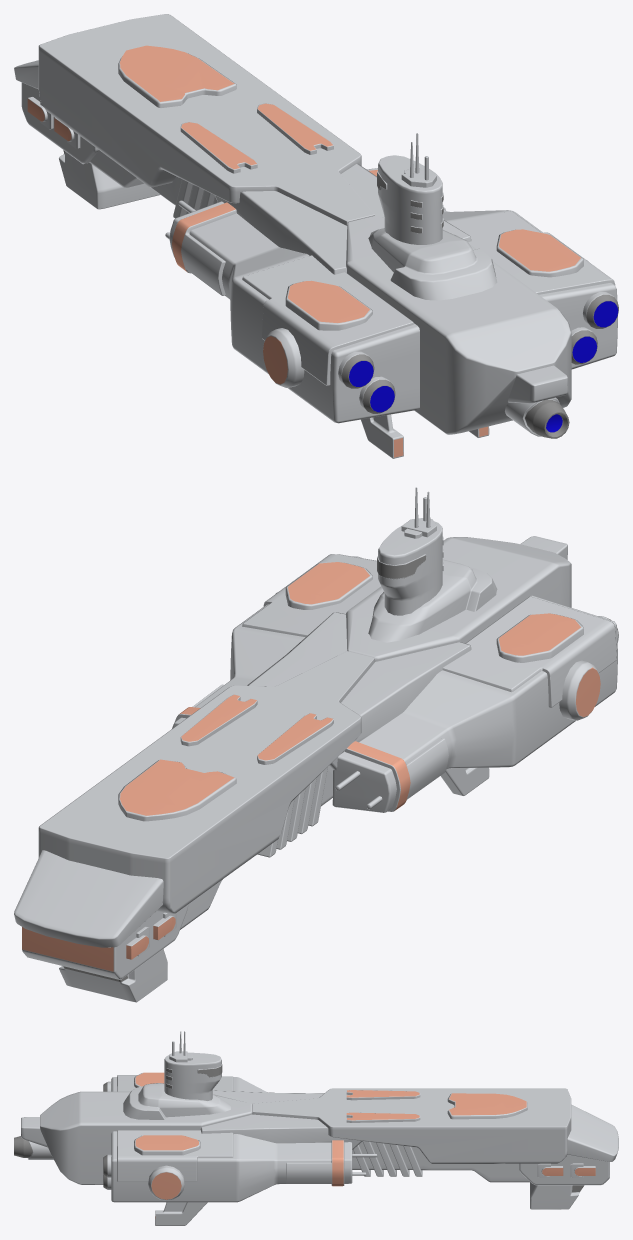
The model's file is lite-carrier.glb.
3 views of the same model, one above another, from view 1: azimuth 30°, elevation 25°; view 2: azimuth 150°, elevation 25°; view 3: azimuth 270°, elevation 25° (orthographic). The views are drawn at different scales.
Parts seen in each view (by area): view 1: Light cruiser_04; view 2: Light cruiser_04; view 3: Light cruiser_04.
Boxes of the visible parts, x1,y1,x2,y2 form: Light cruiser_04: (14, 14, 618, 458); Light cruiser_04: (14, 487, 618, 1002); Light cruiser_04: (14, 1031, 618, 1225).
Bounding box in the file's own units: 2.79 × 2.53 × 7.68.
